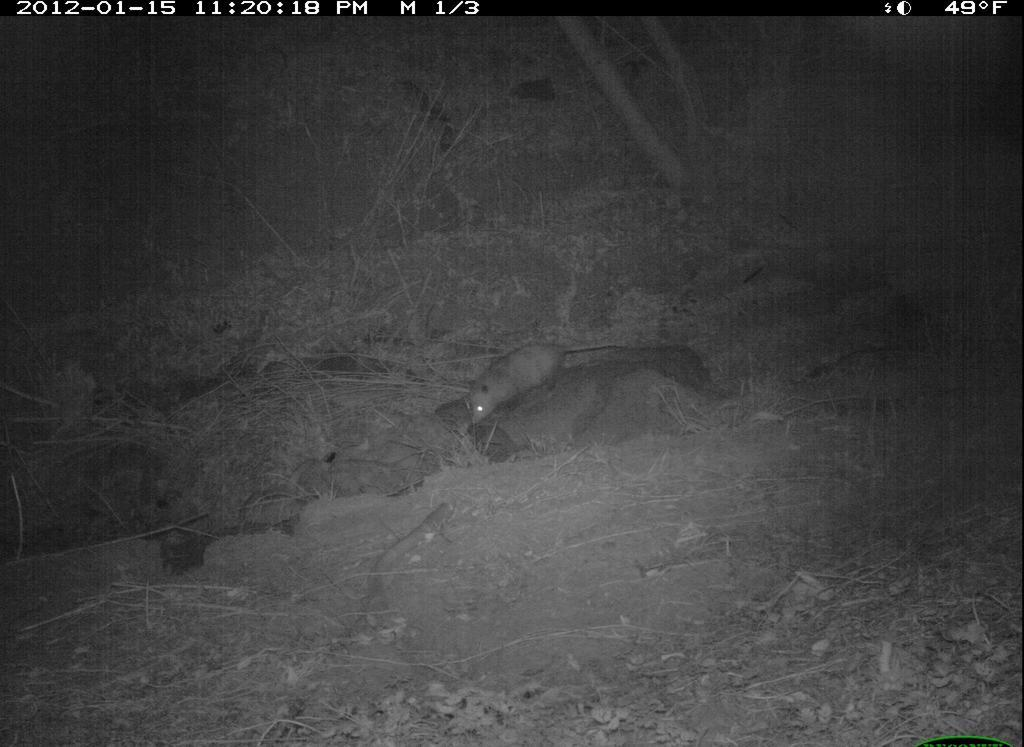opossum: (449, 323, 628, 434)
